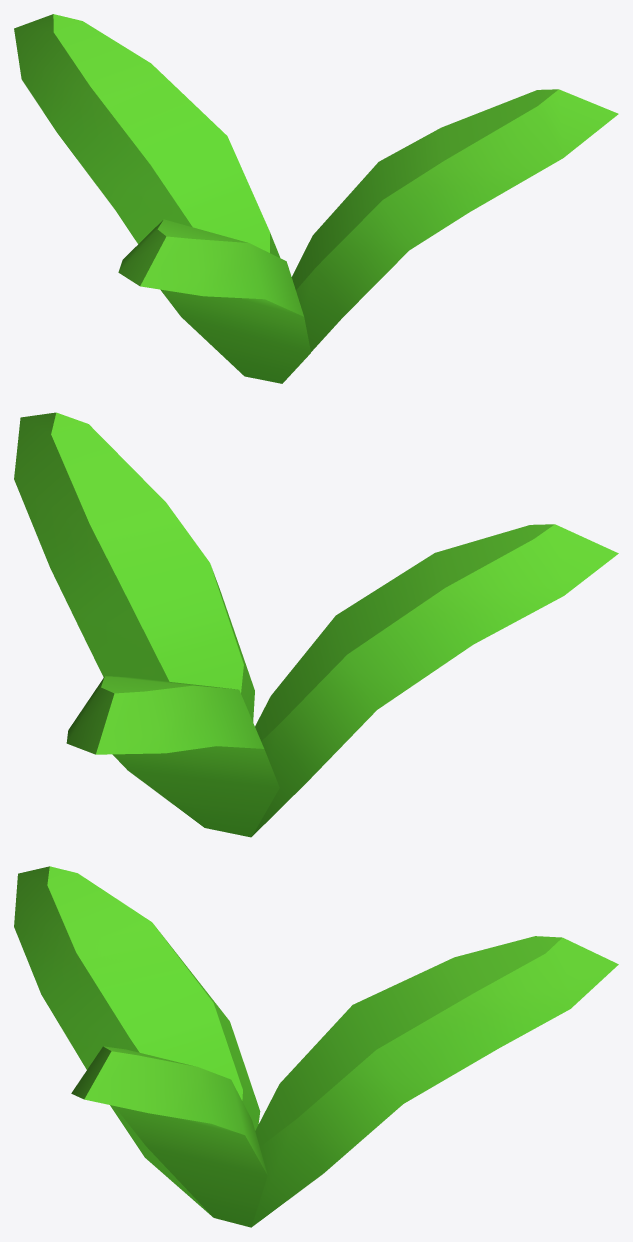
The model's file is Grass_E_1_.fbx.
3 views of the same model, one above another, from view 1: azimuth 30°, elevation 25°; view 2: azimuth 150°, elevation 25°; view 3: azimuth 270°, elevation 25° (orthographic). The views are drawn at different scales.
Visible parts, largest first — view 1: Grass_E_1; view 2: Grass_E_1; view 3: Grass_E_1.
Part boxes in pixels (box(x1,y1,x2,y2)): Grass_E_1: box(14, 14, 618, 383); Grass_E_1: box(14, 412, 618, 837); Grass_E_1: box(14, 866, 618, 1227).
Bounding box in the file's own units: 35.84 × 18.53 × 36.78.
